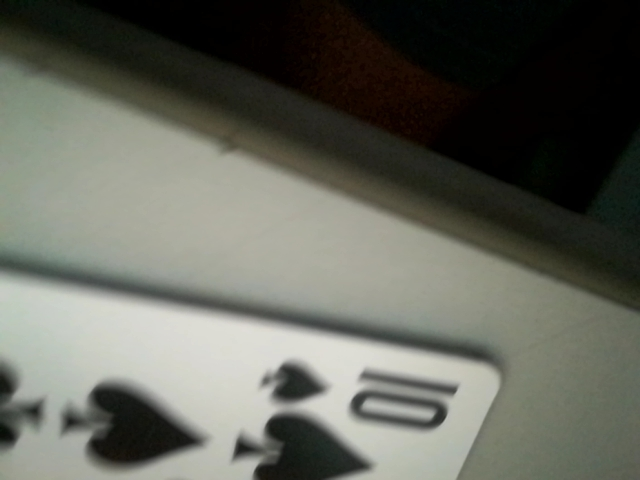ht 10: (253, 352, 480, 429)
